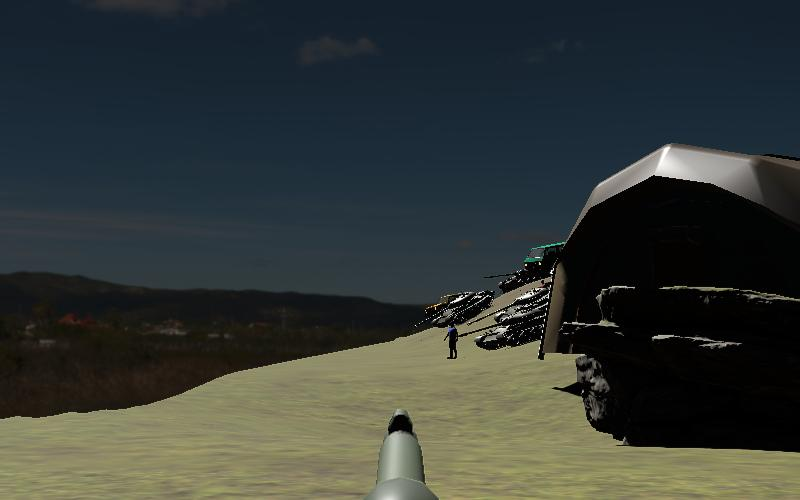Human: (442, 318, 461, 362)
Tank: (463, 307, 553, 354), (420, 287, 496, 329)
